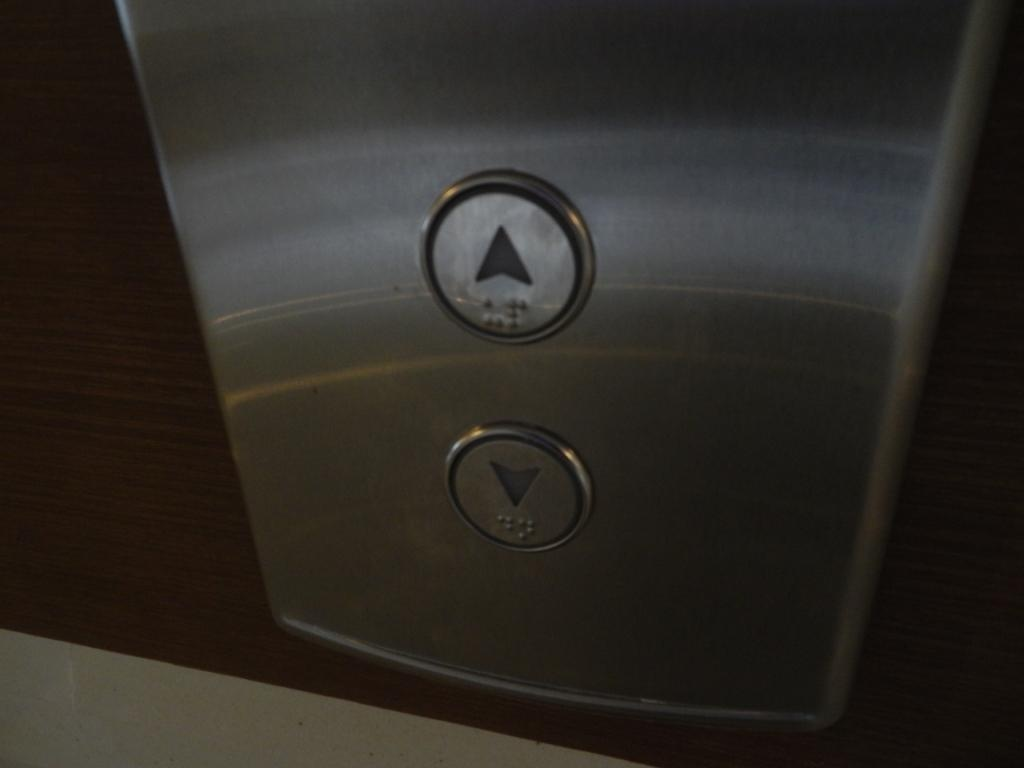down: (444, 423, 599, 559)
up: (417, 169, 603, 345)
